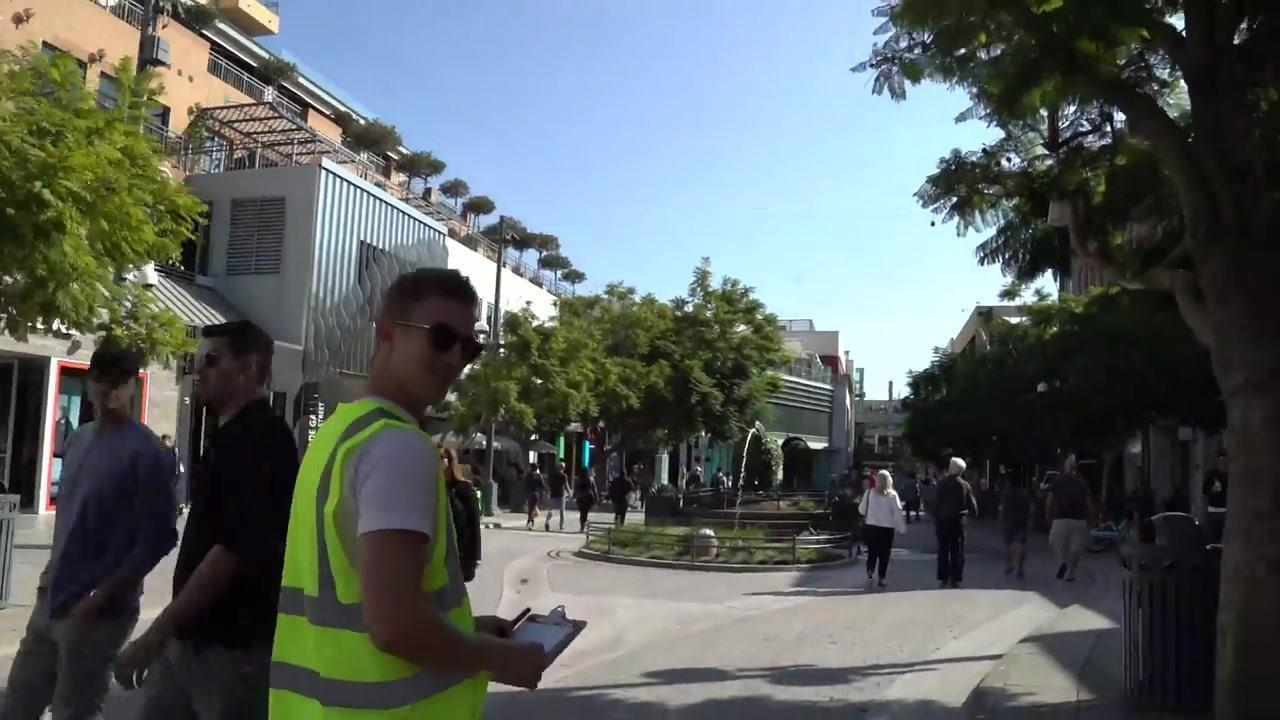Glass: (278, 393, 469, 719)
